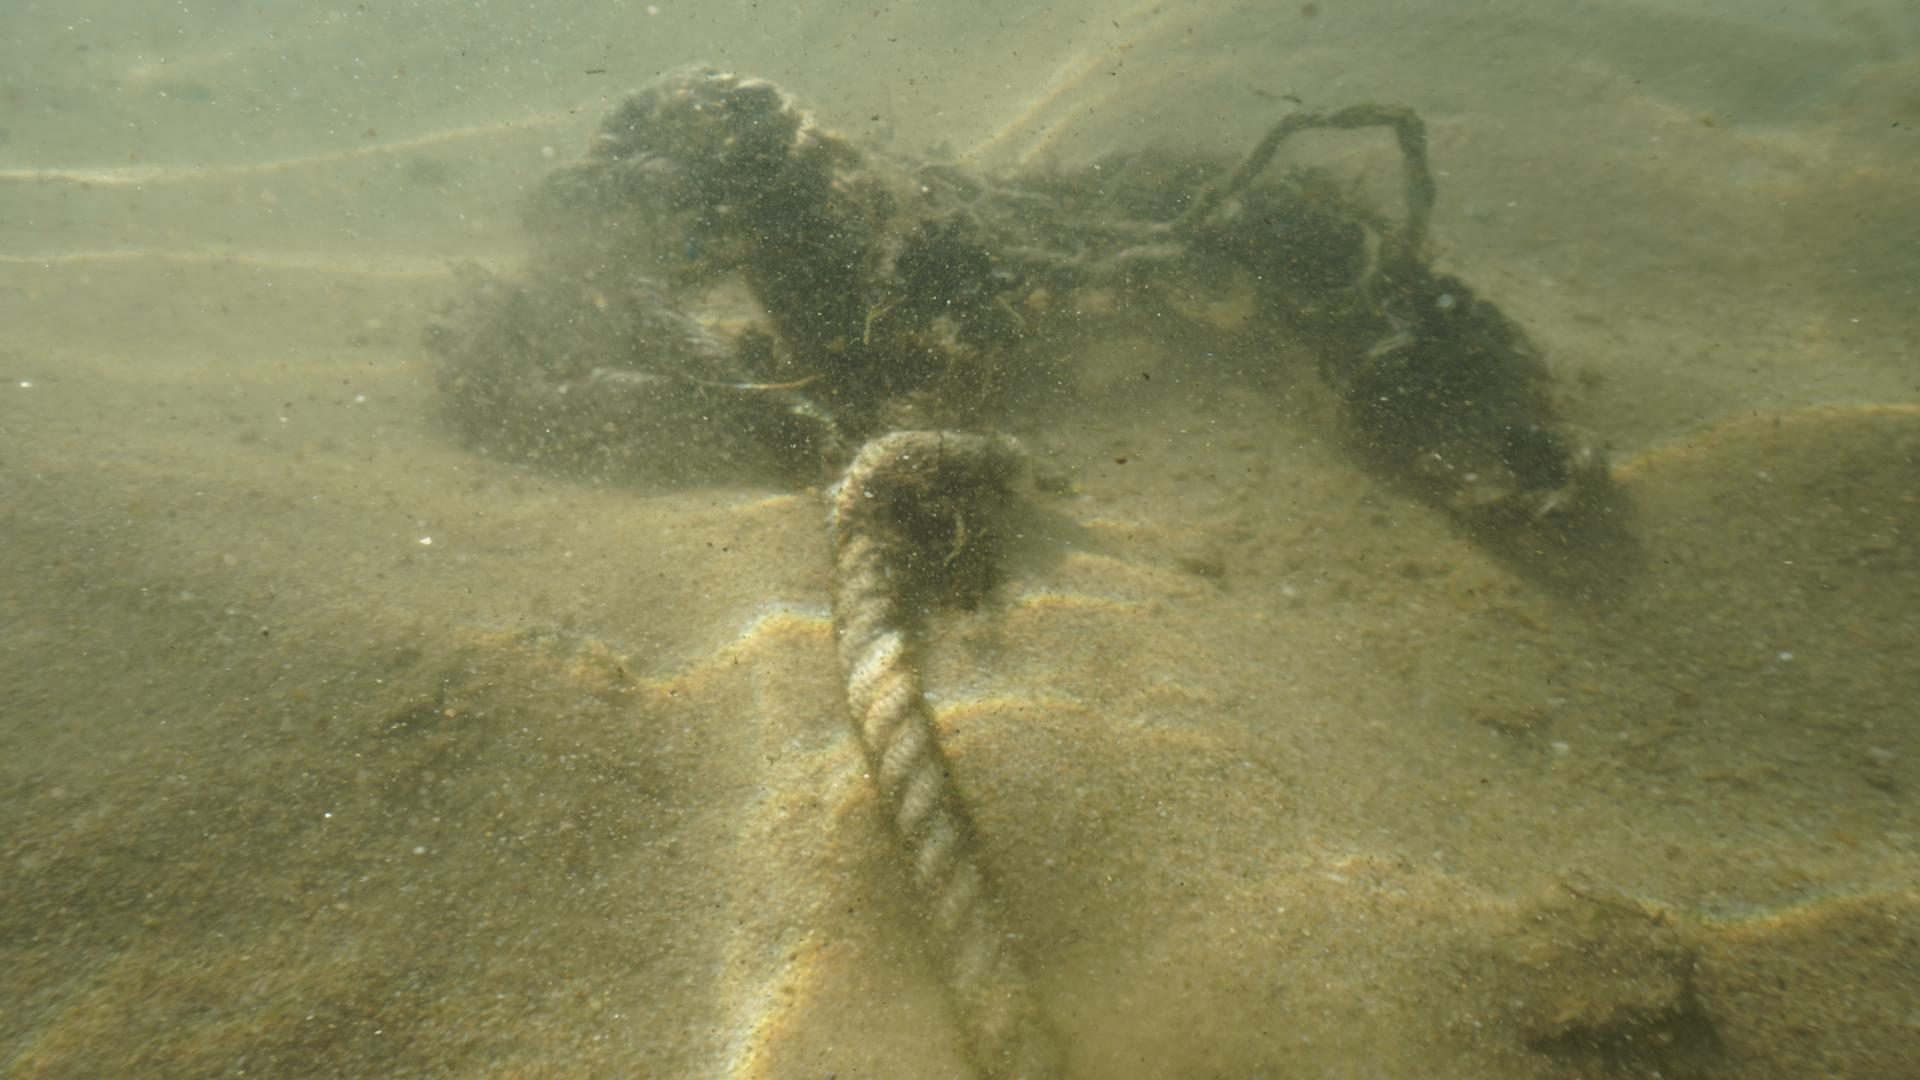rope: (815, 435, 1085, 1080)
